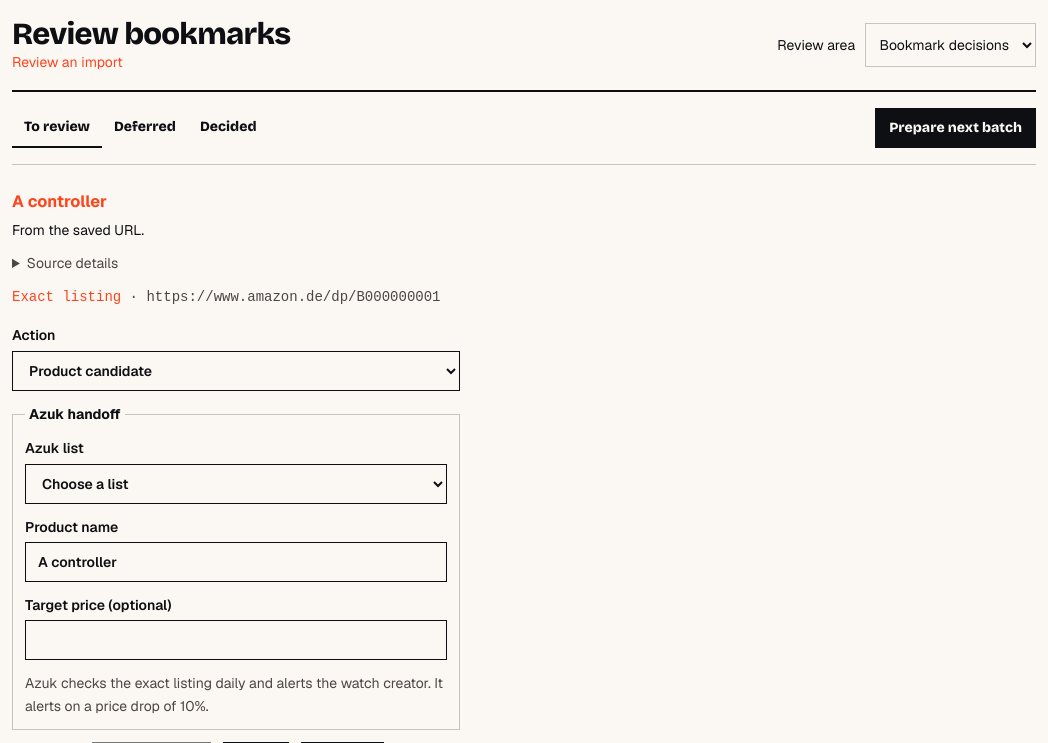
Test: ReviewPage › sends the selected Azuk list, exact listing and alert settings after approval
Select "Bookmarkt test" in the dropdown labelled "Azuk list" at point(236, 484), box top-left (25, 464), bottom-right (447, 504)
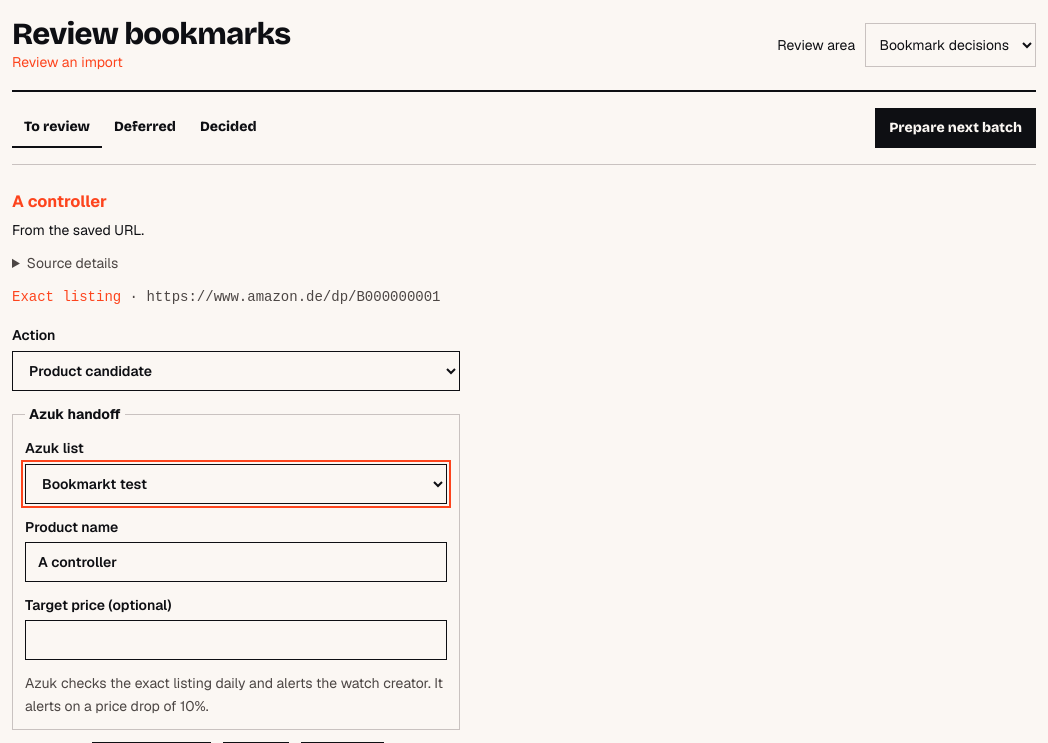
Type "90.50" into the field labelled "Target price (optional)".
click(236, 640); type("90.50")  # box top-left (25, 620), bottom-right (447, 660)
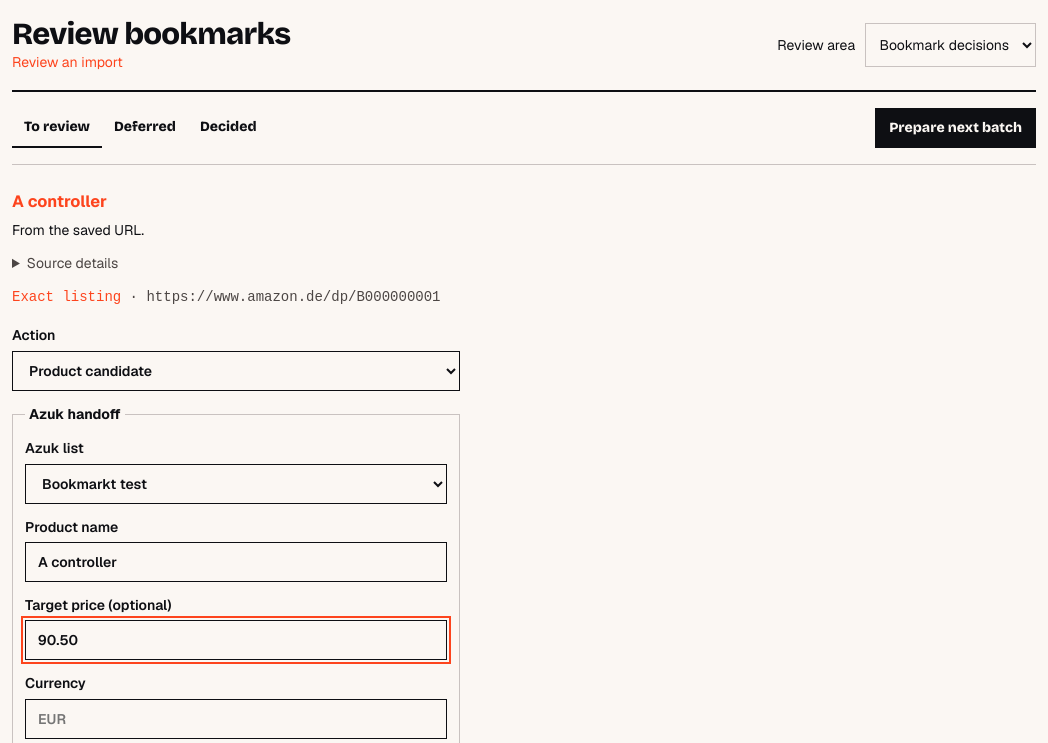
Type "eur" into the field labelled "Currency".
click(236, 719); type("eur")  # box top-left (25, 699), bottom-right (447, 739)
(page scrolled)
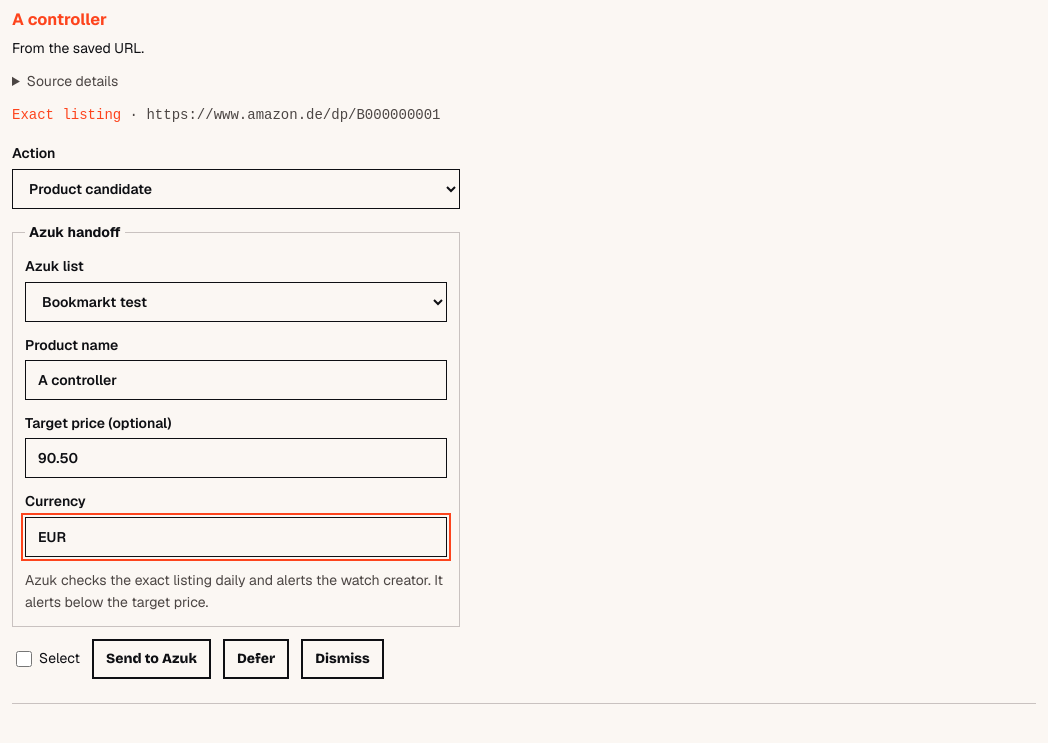
Click the button "Send to Azuk".
click(151, 659)  # box top-left (92, 639), bottom-right (211, 679)
(page scrolled)
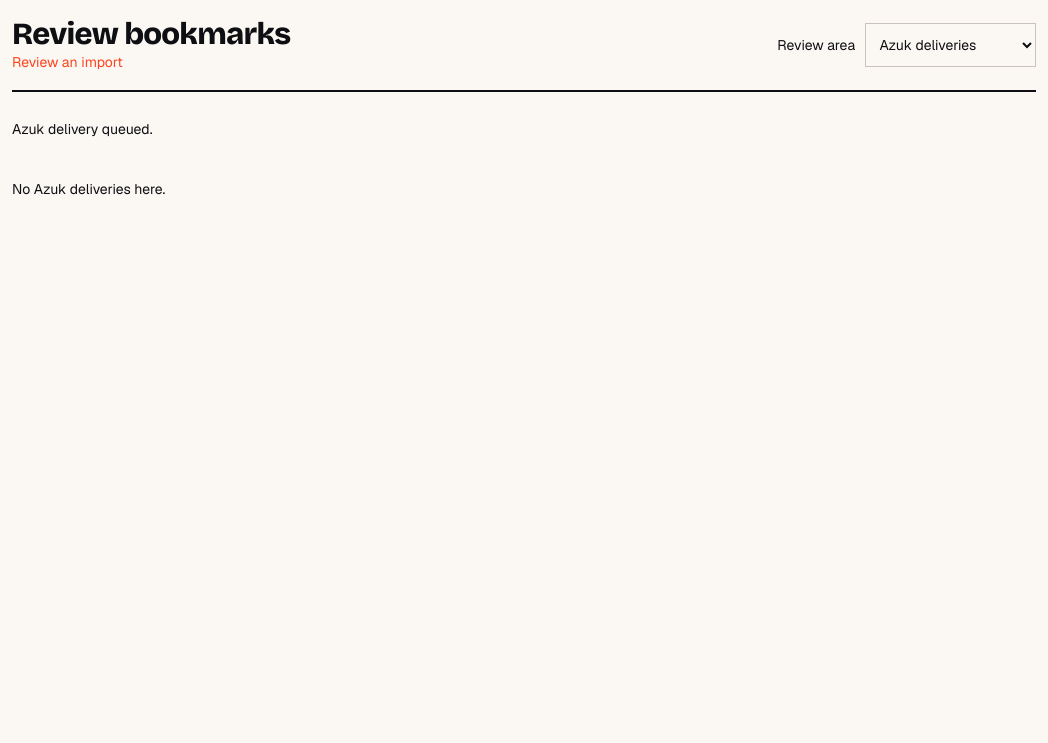
Expected: the text "Azuk delivery queued." is shown, top-left (12, 120), bottom-right (152, 138)
